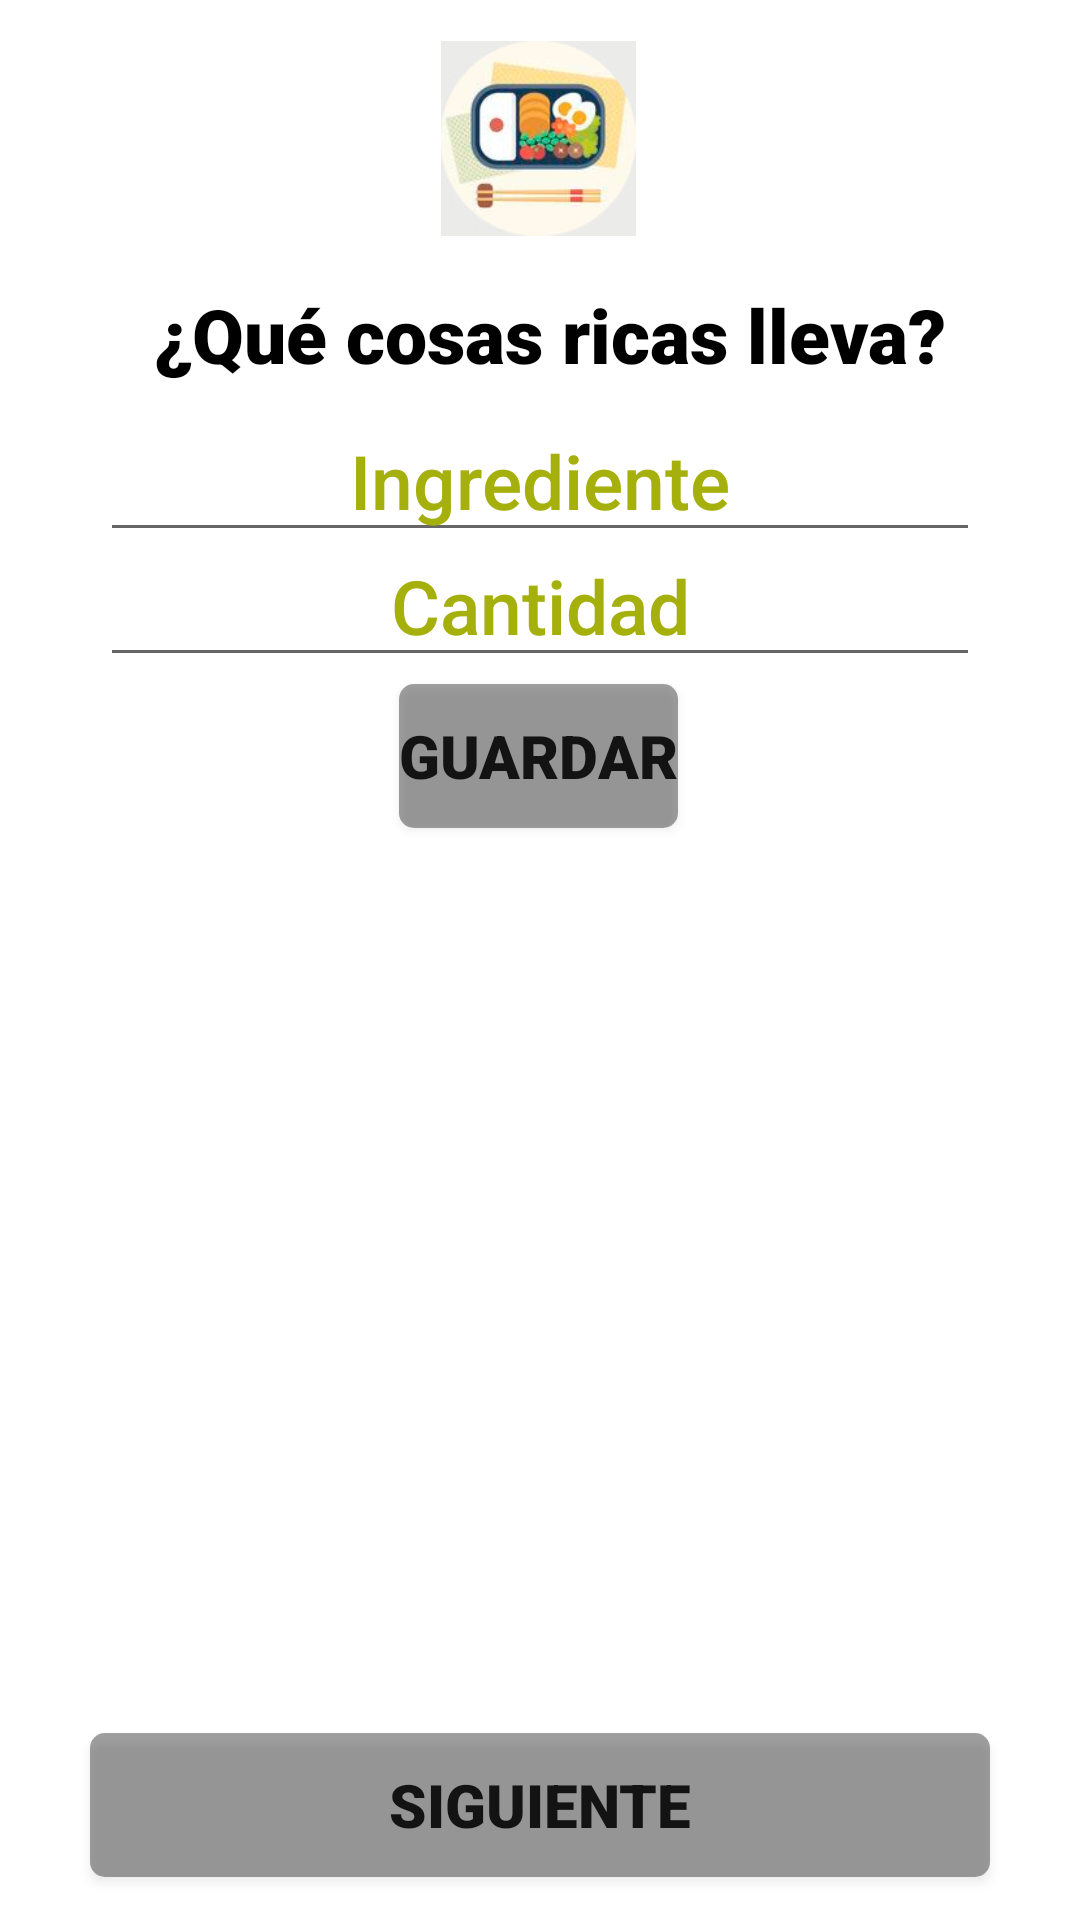

Icons on this 1080 × 1920 Android screen, each with its box as (x1, y1, x2, y2):
obentorg: (441, 41, 636, 236)
